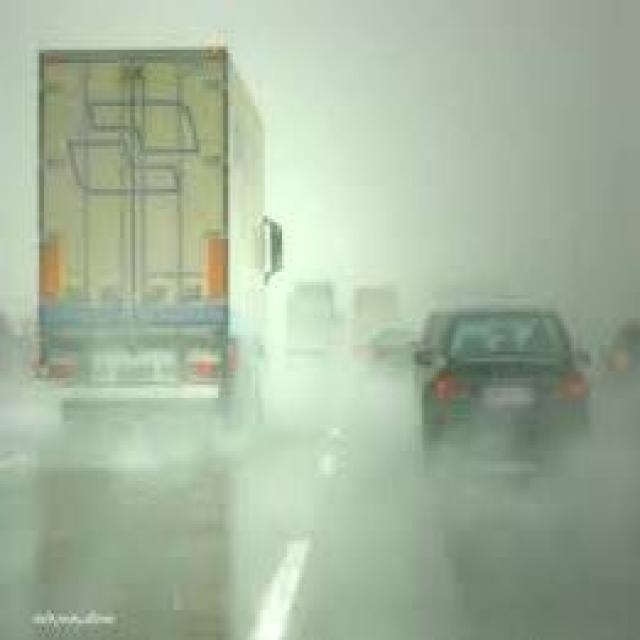Car: (420, 309, 598, 471)
Truck: (33, 34, 278, 446)
